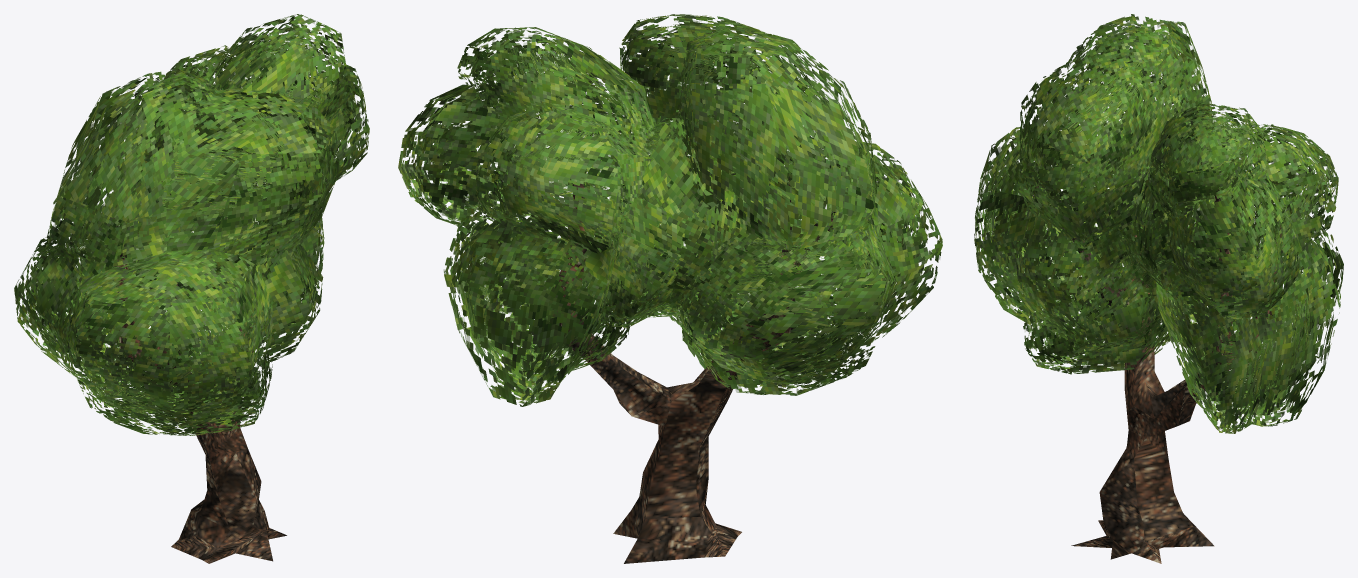
The model's file is tree.glb.
3 renders of one model, left to right at view 1: azimuth 30°, elevation 25°; view 2: azimuth 150°, elevation 25°; view 3: azimuth 270°, elevation 25°, orthographic. The views are drawn at different scales.
Parts seen in each view (by area): view 1: Tree; view 2: Tree; view 3: Tree.
Part boxes in pixels (x1,y1,x2,y2): Tree: [14, 14, 369, 563]; Tree: [398, 14, 942, 563]; Tree: [974, 14, 1343, 563].
Size of the model in its own units: 4.05 by 4.65 by 3.22.
Materials: 2 (2 with a texture image).
